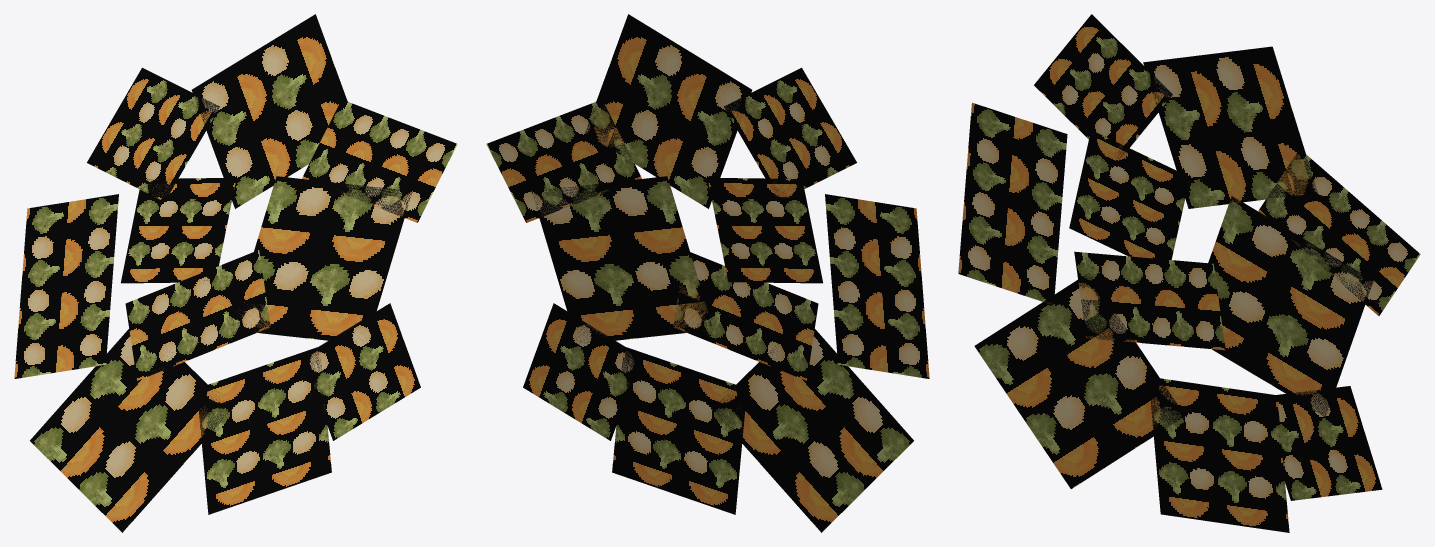
The picture shows the model from 3 angles, left to right: view 1: azimuth 30°, elevation 25°; view 2: azimuth 150°, elevation 25°; view 3: azimuth 330°, elevation 25°; orthographic projection. The views are drawn at different scales.
Visible parts, largest first — view 1: ef_633; view 2: ef_633; view 3: ef_633.
Part boxes in pixels (x1=…): ef_633: x1=14, y1=14, x2=457, y2=532; ef_633: x1=486, y1=14, x2=929, y2=532; ef_633: x1=958, y1=14, x2=1420, y2=532.
Bounding box in the file's own units: 0.7221 × 0.739 × 0.
1 material, 1 textured.
